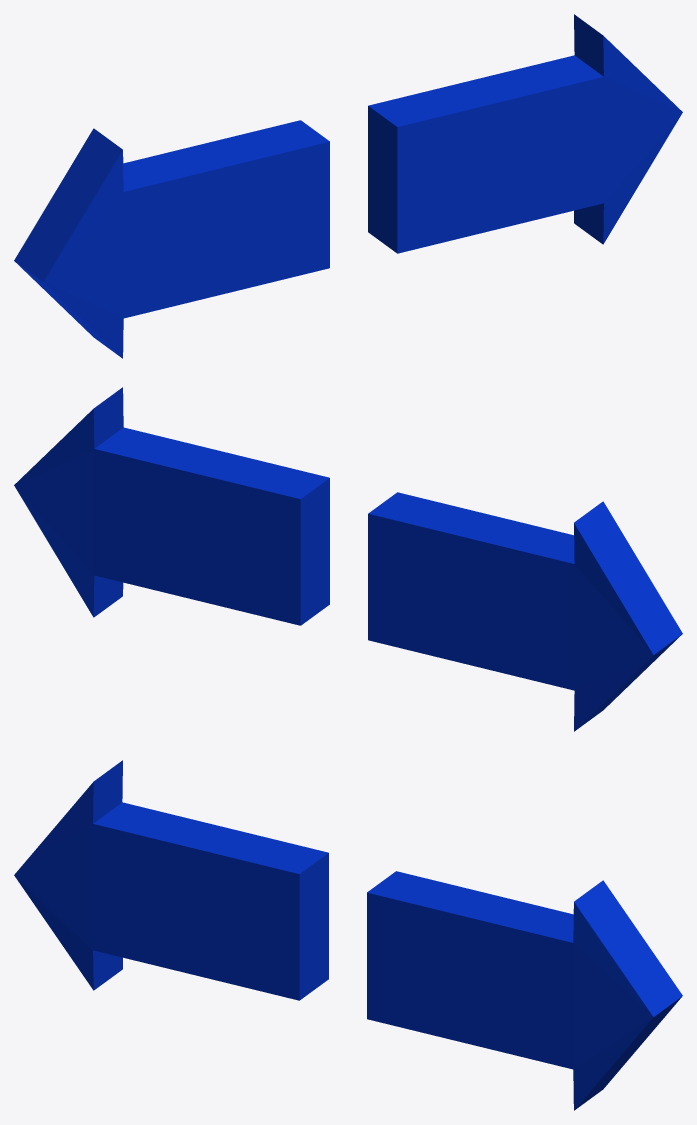
File: arrows.fbx
3 views of the same model, one above another, from view 1: azimuth 30°, elevation 25°; view 2: azimuth 150°, elevation 25°; view 3: azimuth 330°, elevation 25° (orthographic).
Visible parts, largest first — view 1: Arrows; view 2: Arrows; view 3: Arrows.
Part boxes in pixels (x1,y1,x2,y2): Arrows: (14, 14, 682, 358); Arrows: (14, 387, 682, 731); Arrows: (14, 760, 682, 1110).
Size of the model in its own units: 3.24 by 1.03 by 0.2628.
